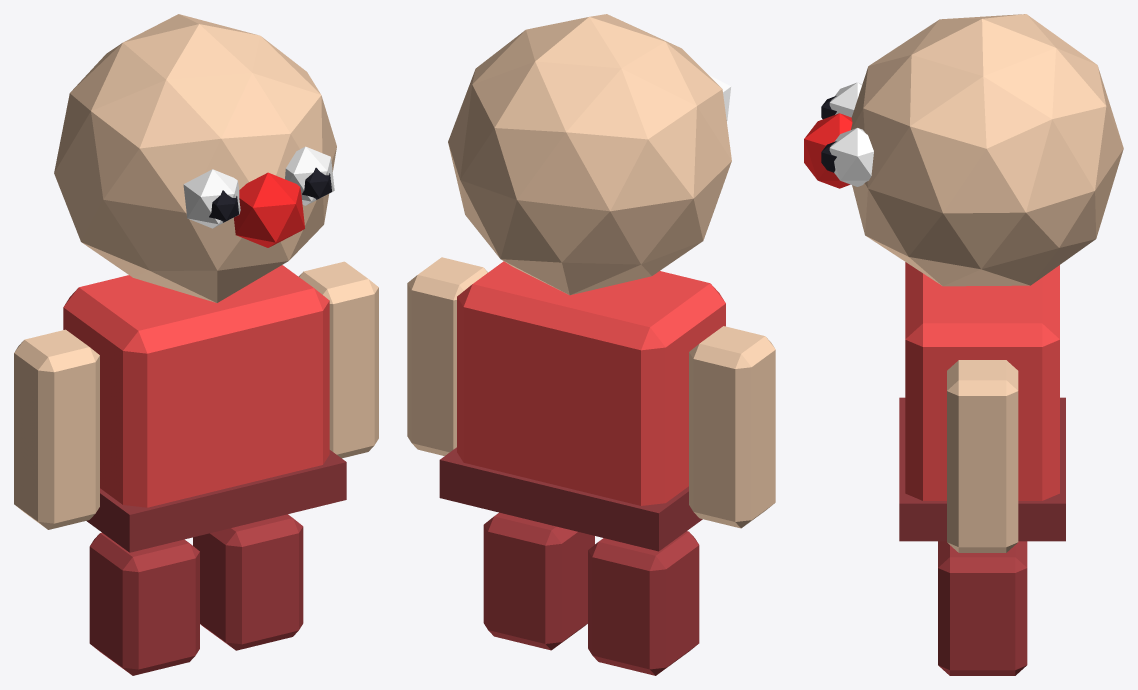
File: CaptainConfetti.fbx
The picture shows the model from 3 angles, left to right: view 1: azimuth 30°, elevation 25°; view 2: azimuth 150°, elevation 25°; view 3: azimuth 270°, elevation 25°; orthographic projection.
Parts seen in each view (by area): view 1: CaptainConfetti; view 2: CaptainConfetti; view 3: CaptainConfetti.
Part boxes in pixels (bbox=[...]): CaptainConfetti: bbox=[14, 14, 378, 675]; CaptainConfetti: bbox=[407, 14, 775, 675]; CaptainConfetti: bbox=[804, 14, 1123, 675].
Size of the model in its own units: 6.93 by 12.04 by 5.63.
1 material, 1 textured.
